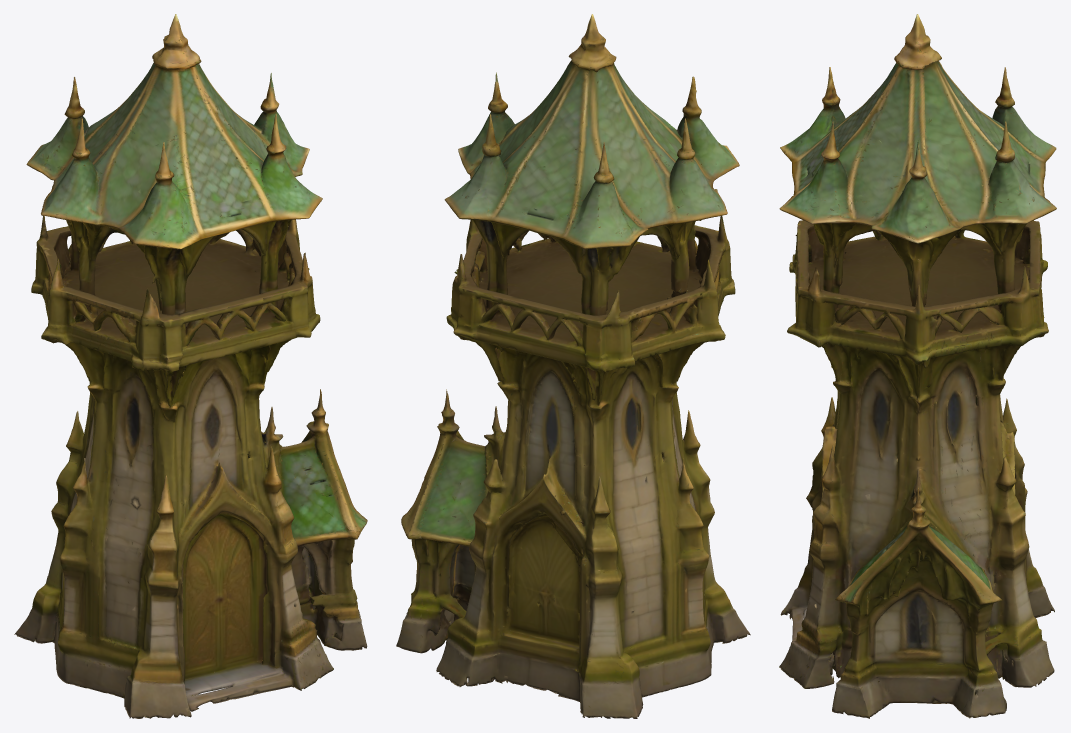
Rendered from Meshy_AI_Enchanted_Spiral_Towe_1016102721_texture.fbx.
The picture shows the model from 3 angles, left to right: view 1: azimuth 30°, elevation 25°; view 2: azimuth 150°, elevation 25°; view 3: azimuth 270°, elevation 25°; orthographic projection.
Visible parts, largest first — view 1: Mesh_0; view 2: Mesh_0; view 3: Mesh_0.
Part boxes in pixels (bbox=[...]): Mesh_0: bbox=[14, 14, 367, 718]; Mesh_0: bbox=[396, 14, 750, 718]; Mesh_0: bbox=[779, 14, 1056, 718].
Bounding box in the file's own units: 95.89 × 197 × 79.03.
Materials: 1 (1 with a texture image).
